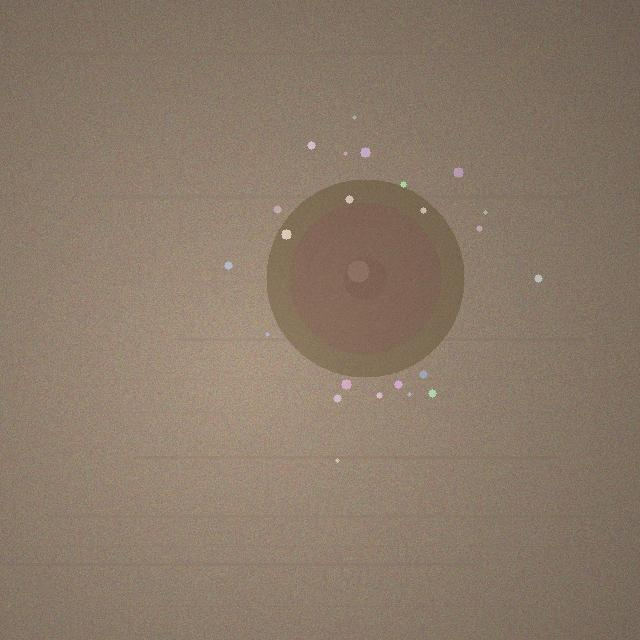overburn: (266, 179, 464, 377)
